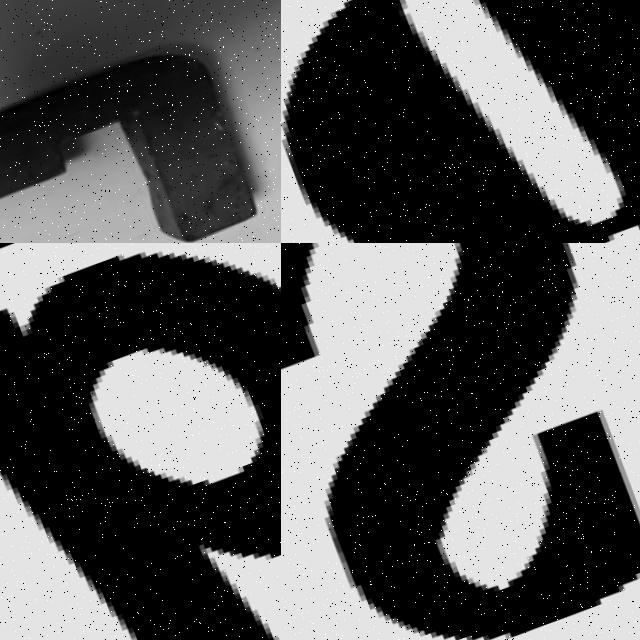8: (281, 0, 640, 243)
B: (0, 250, 281, 640)
J: (0, 33, 270, 243)
S: (281, 243, 640, 640)
